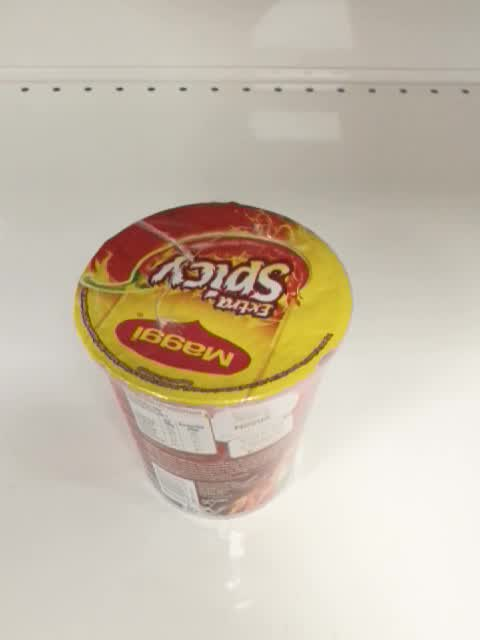maggi: (73, 201, 354, 519)
